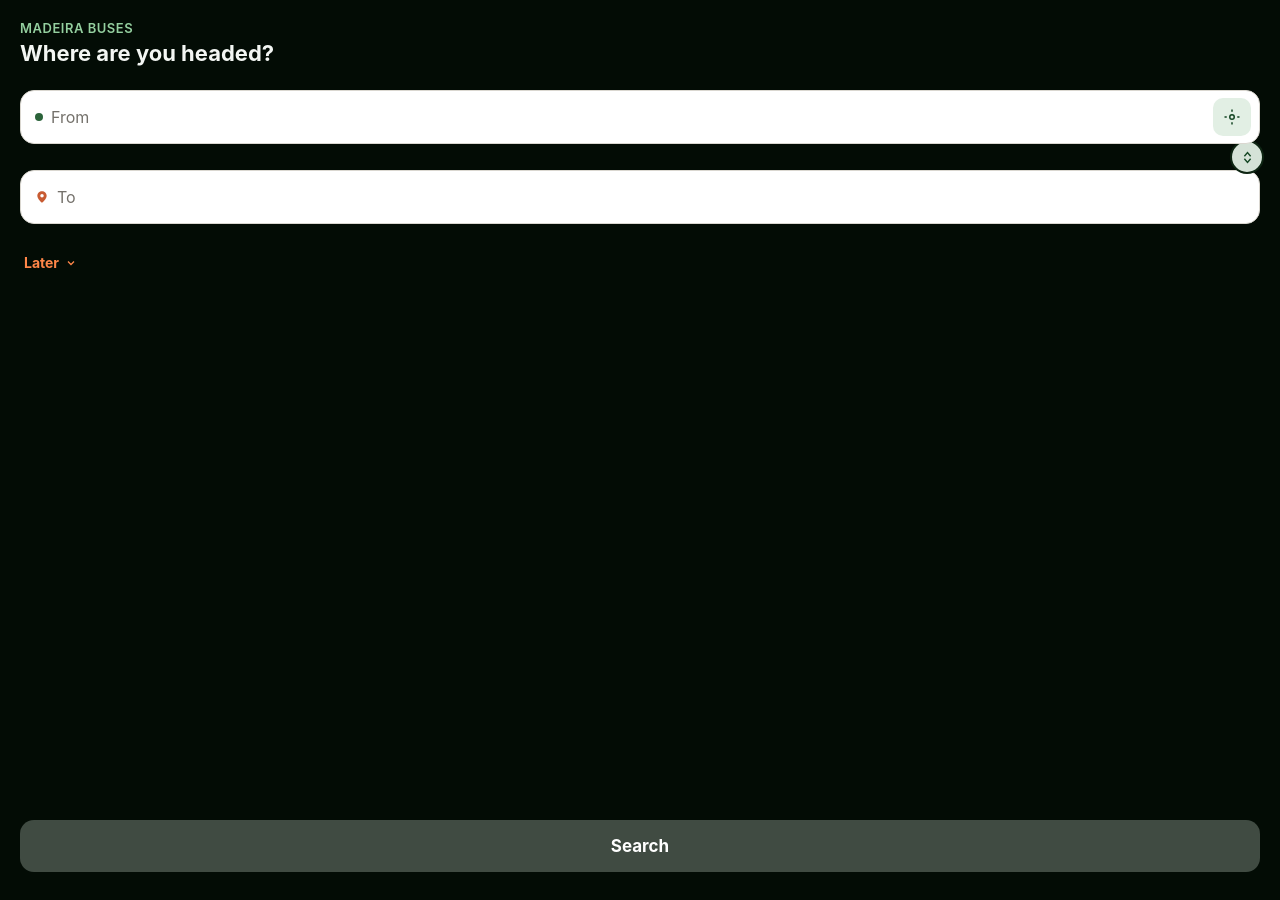
Test: SearchScreen › swaps From and To
In the field labelled "From": (628, 117) 43,93 -> 1213,141, type "Funchal"
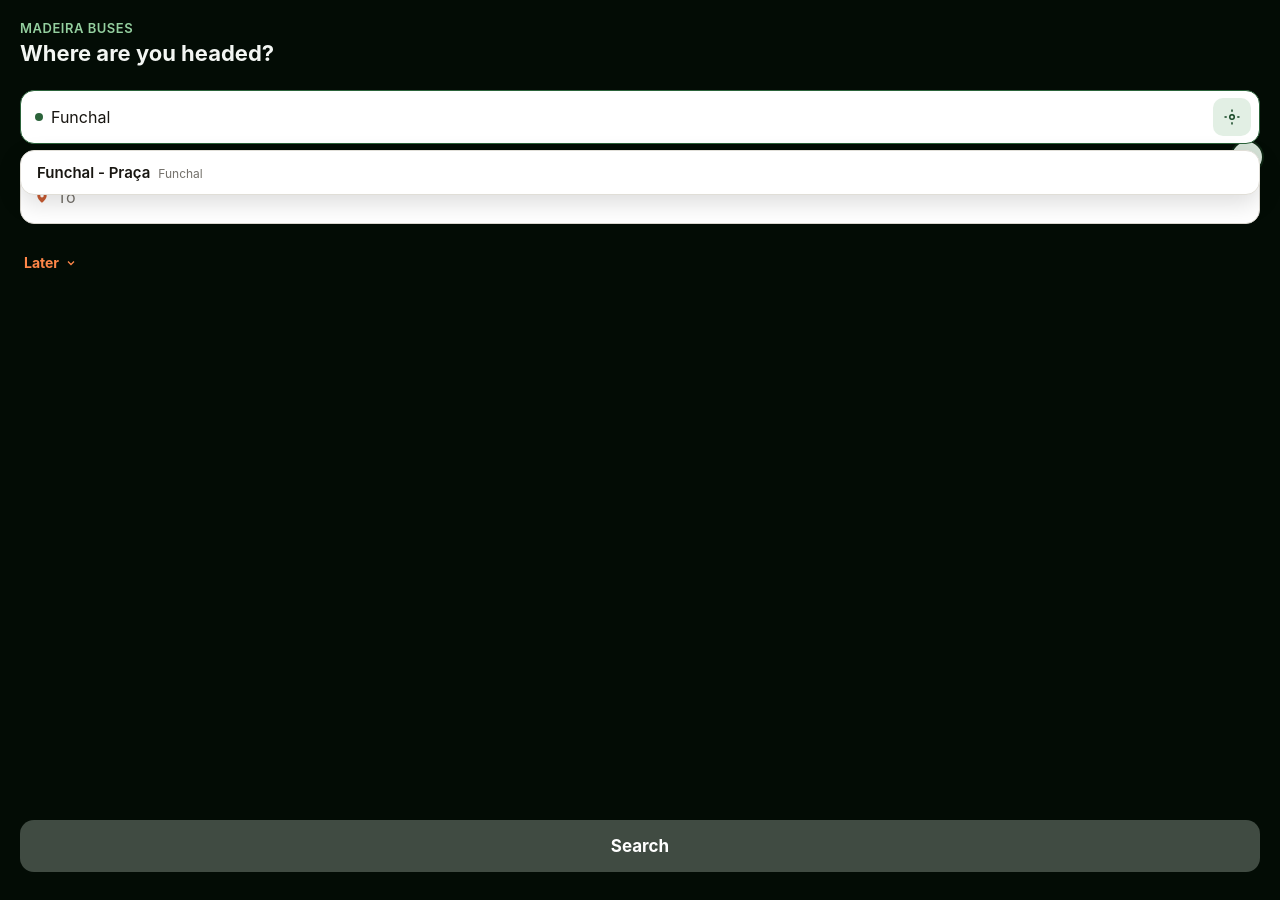
Click the text "Funchal - Praça": (94, 172) 37,163 -> 150,182
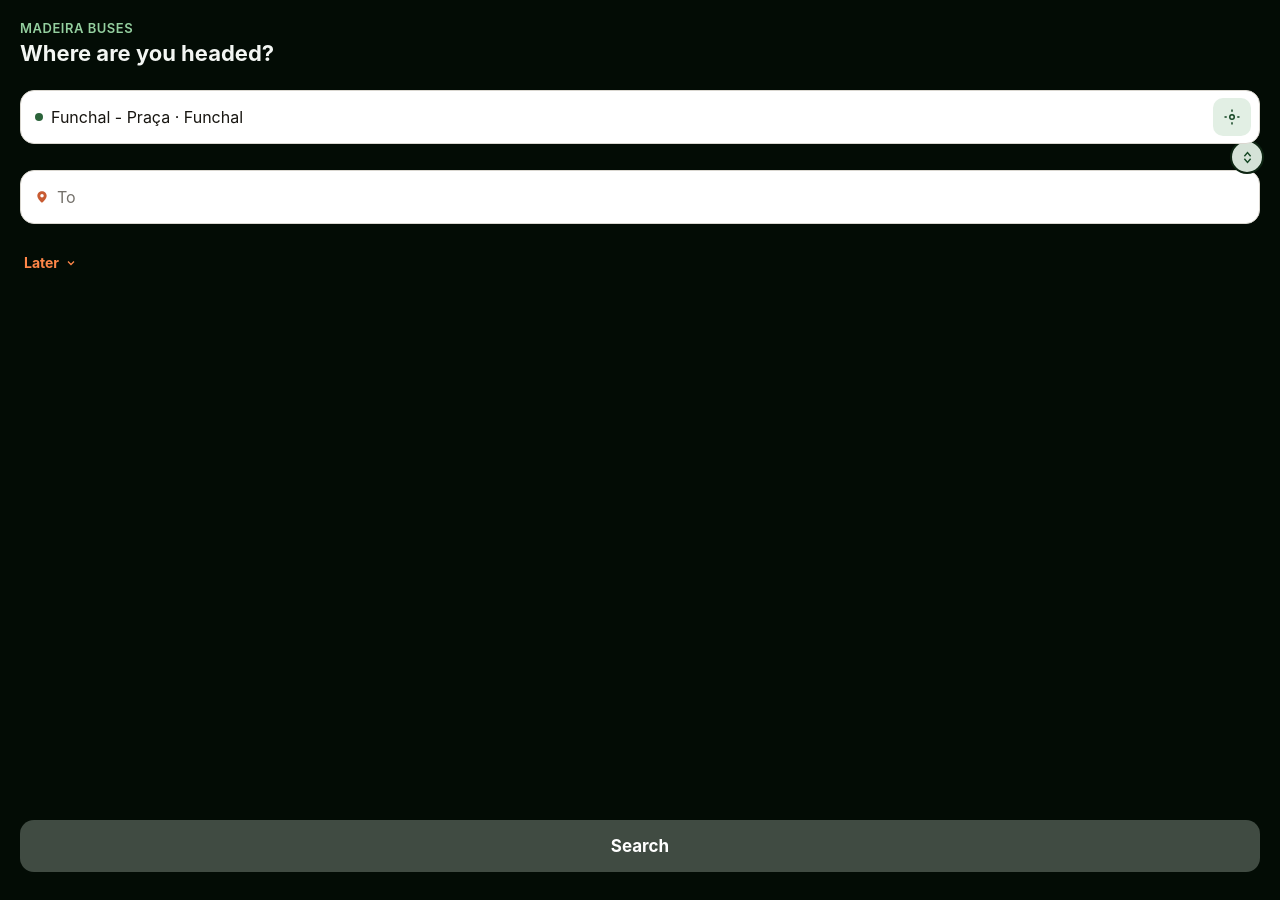
In the field labelled "To": (650, 197) 49,173 -> 1251,221, type "Calheta"
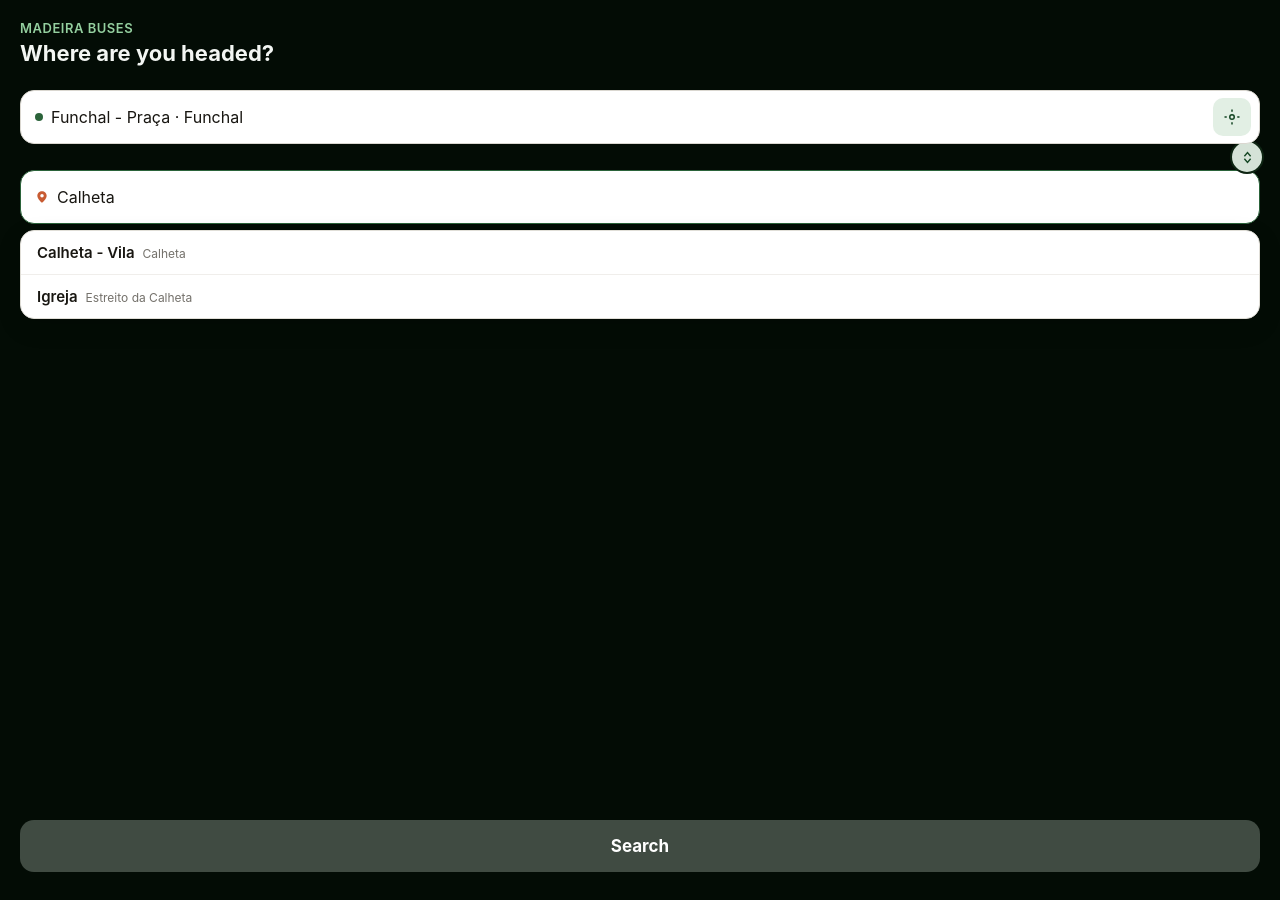
Click the text "Calheta - Vila": (86, 252) 37,243 -> 134,262
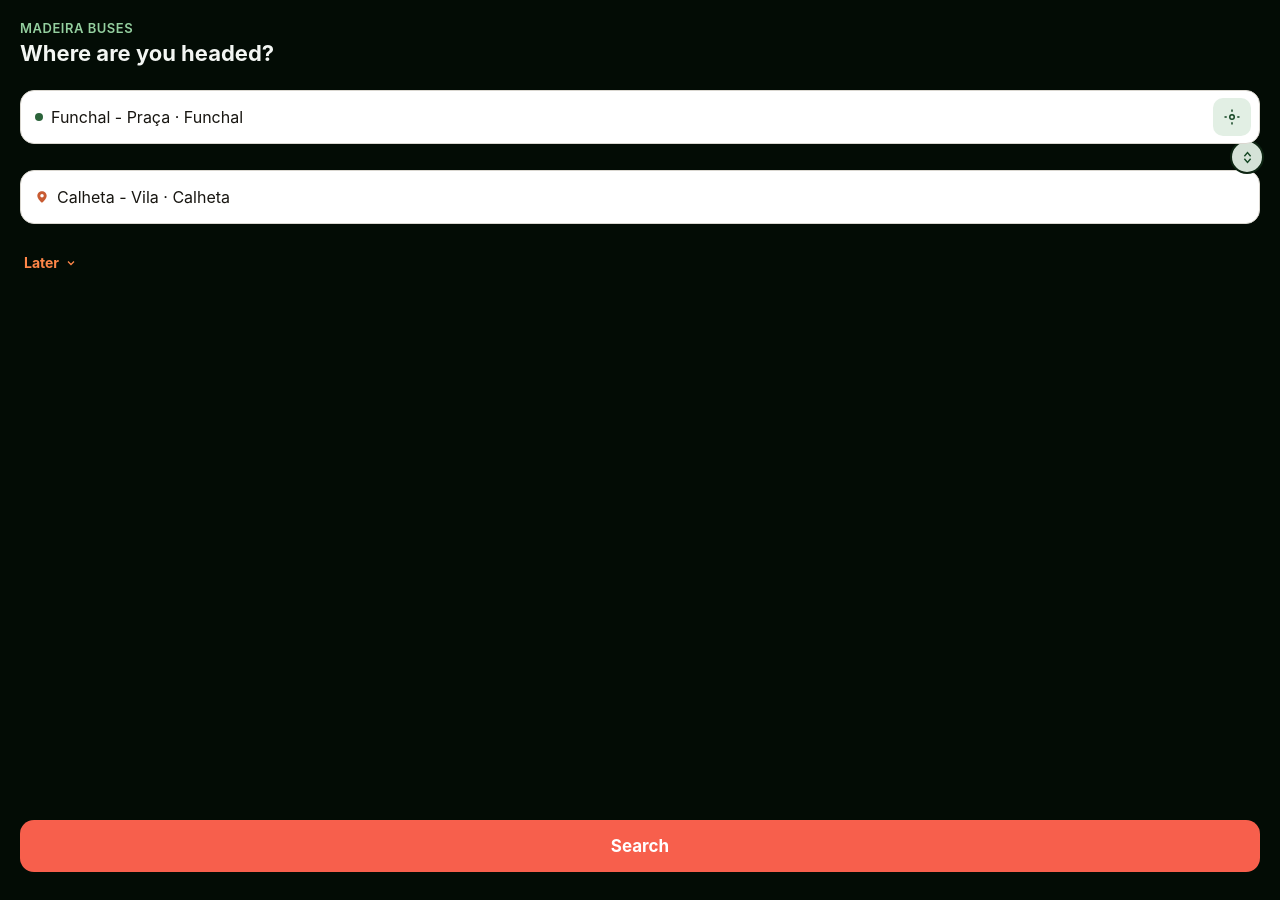
Click the button named "Swap from and to": (1247, 157) 1230,140 -> 1264,174
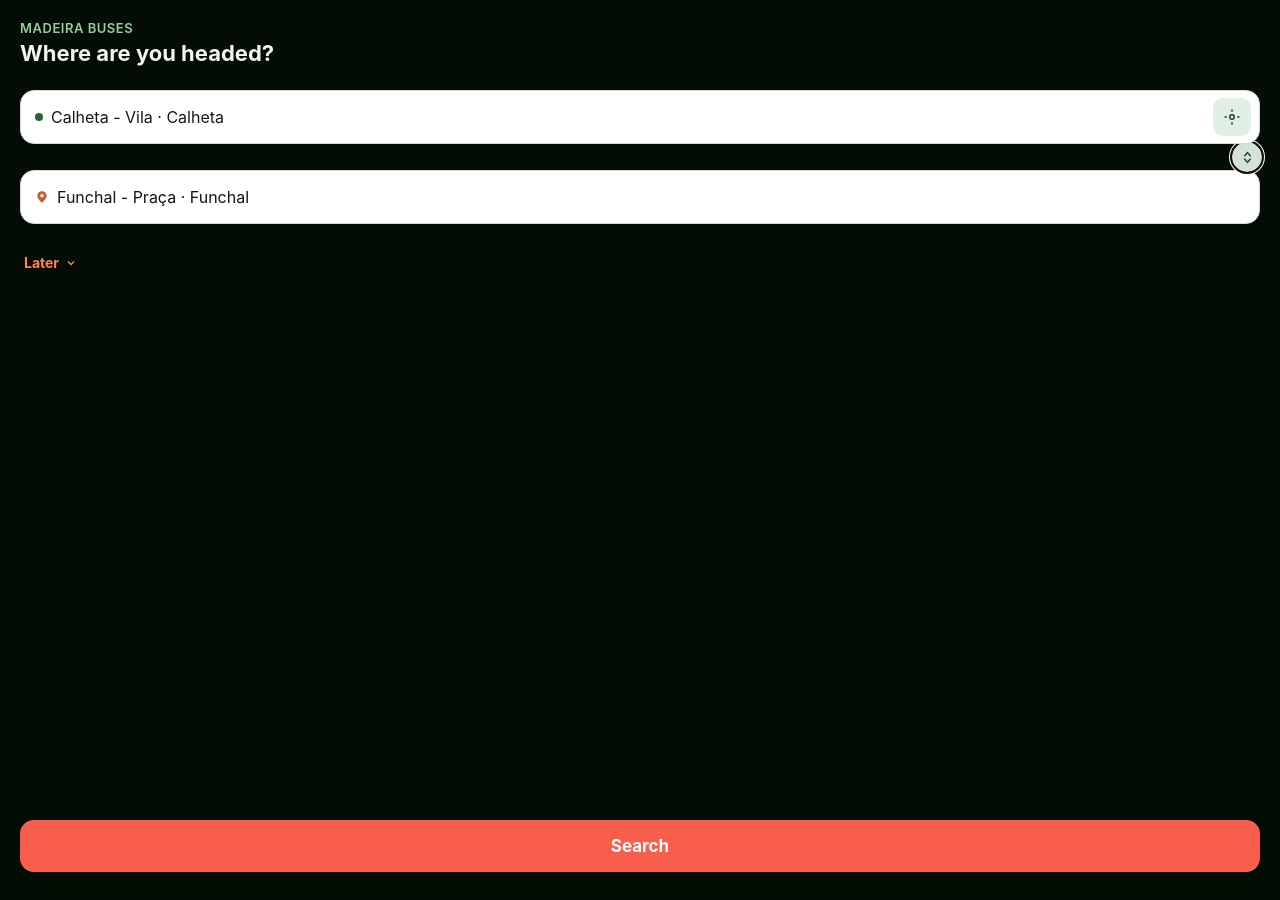
Now the field named "From" holds "Calheta - Vila · Calheta", box 43,93 -> 1213,141
Now the field named "To" holds "Funchal - Praça · Funchal", box 49,173 -> 1251,221
